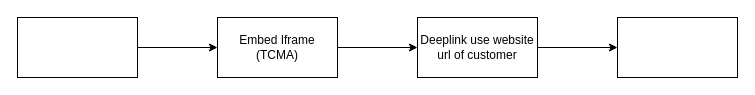
Some shapes in this 755 by 95 pixel diagram are drawn without their labels. Each missing label, with the centre of its shape:
"Shorten URL social" goes at (677,47).
"Website (customer)" goes at (77,47).
